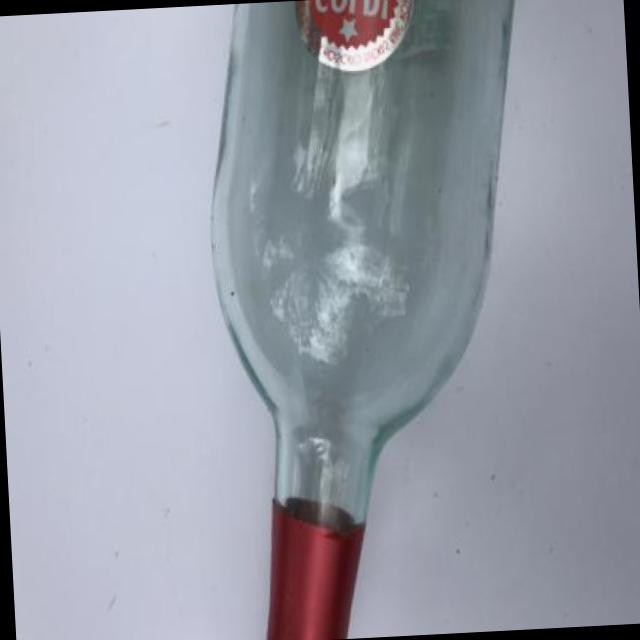chai_thuy_tinh: (208, 0, 516, 640)
